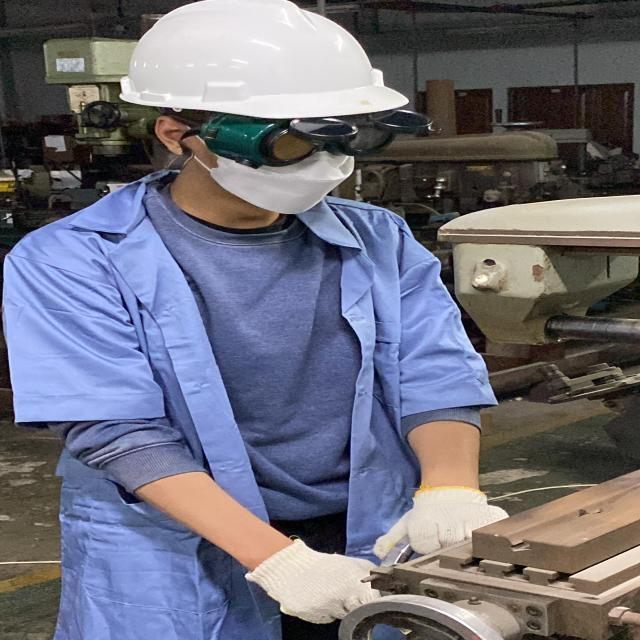glasses: (159, 103, 453, 170)
